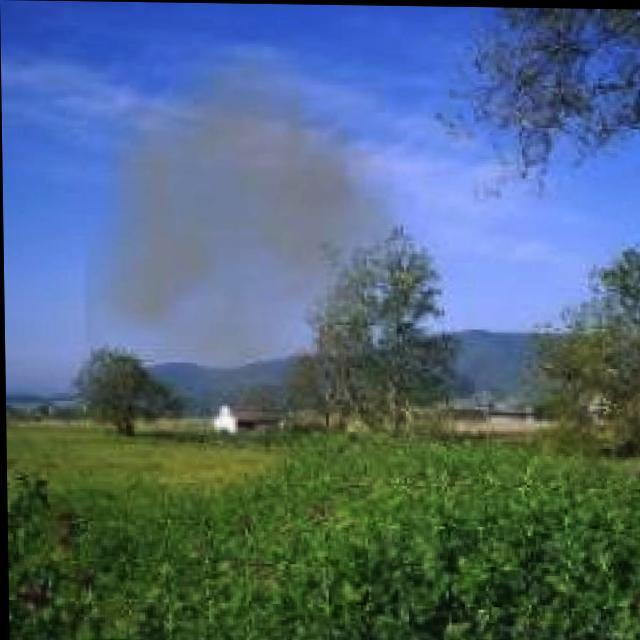Smoke: (89, 73, 390, 438)
